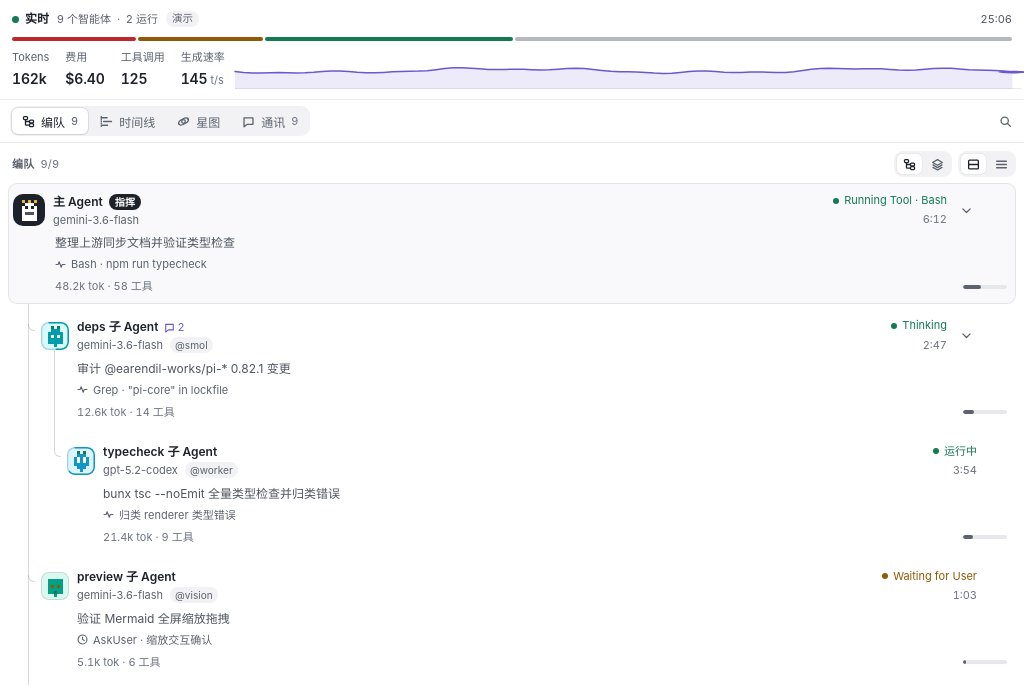
Test case: Agents deck › never sends commands from preview
Click the button named "打开对话 · deps 子 Agent · Thinking" at (525, 369), box top-left (35, 310), bottom-right (1015, 429)
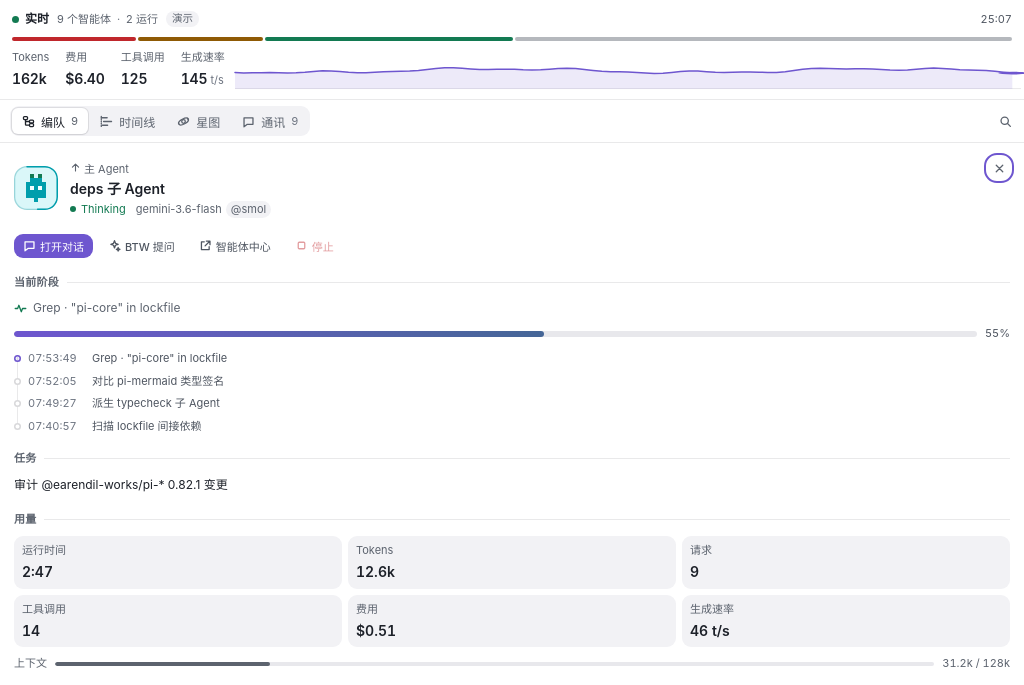
Result: the button "停止" is disabled at top-left (286, 234), bottom-right (343, 258)
